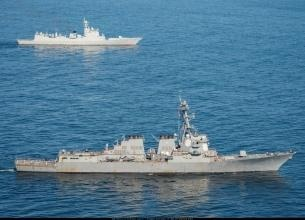warship: (13, 111, 297, 174), (17, 21, 144, 46)
